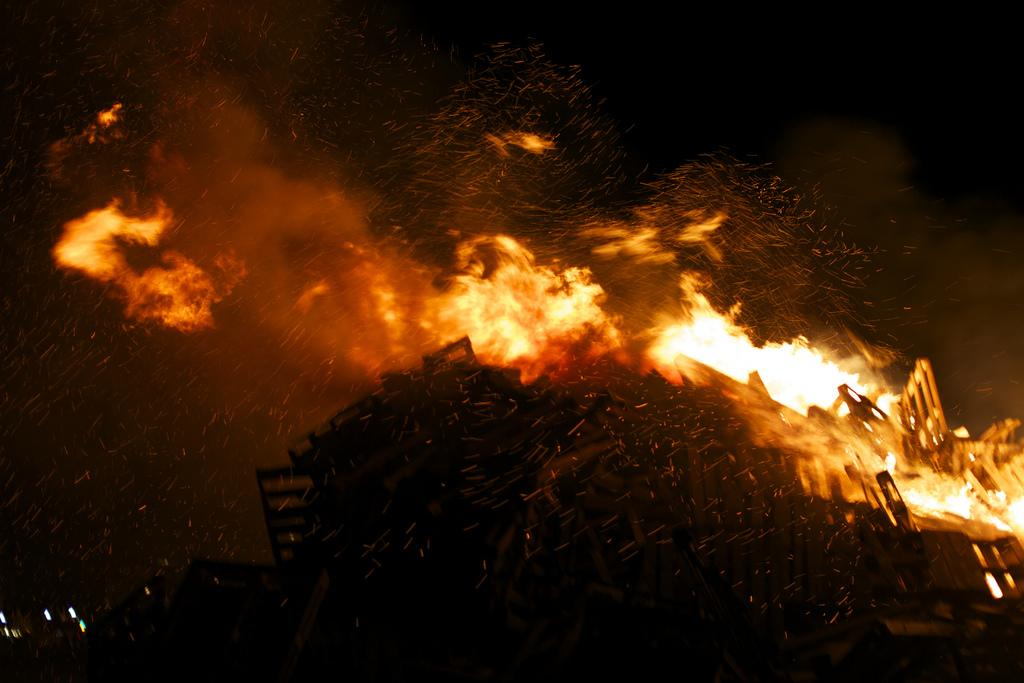fire: (457, 290, 583, 355), (775, 352, 845, 408), (62, 225, 118, 270), (672, 328, 735, 362)
